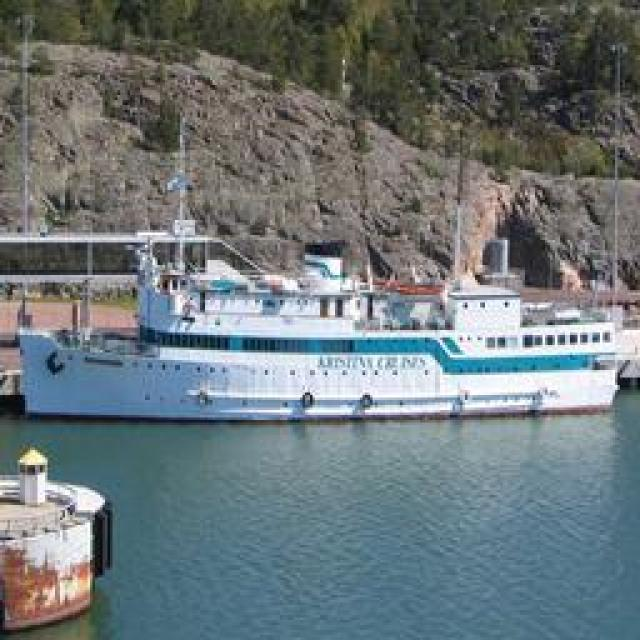ship2: (19, 113, 629, 425)
